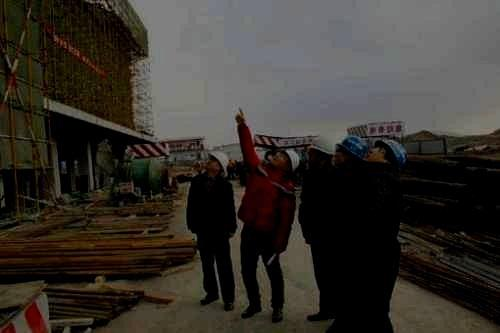helmet: (363, 139, 408, 166), (333, 134, 368, 167), (307, 133, 335, 169), (269, 148, 300, 172), (205, 150, 230, 179)
